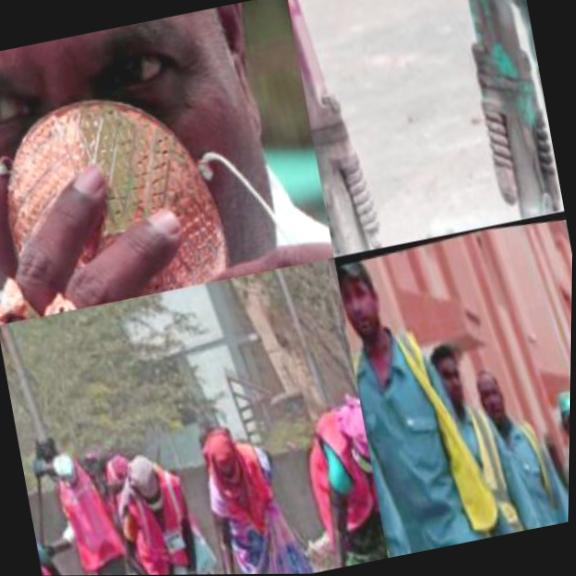safety_vest: (341, 292, 506, 555), (286, 386, 385, 552), (431, 393, 531, 543), (485, 400, 570, 533), (45, 452, 134, 576), (196, 429, 296, 538), (115, 471, 215, 575), (555, 422, 570, 520), (35, 539, 70, 576)
